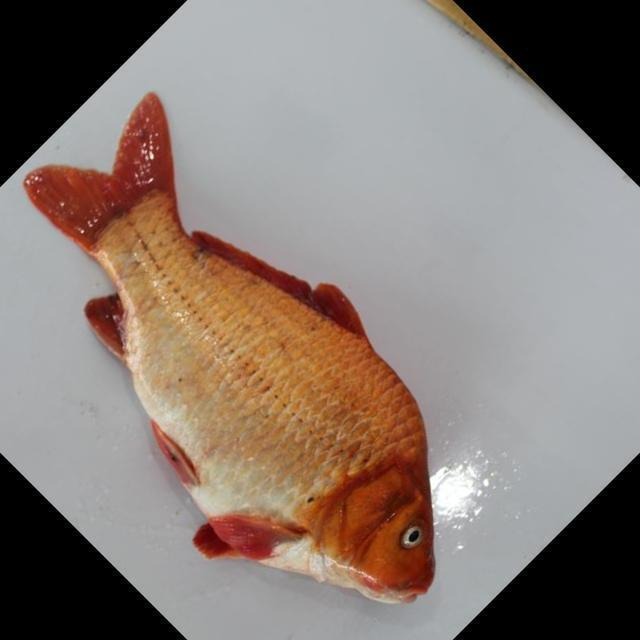Gold-Fish: (0, 50, 523, 585)
